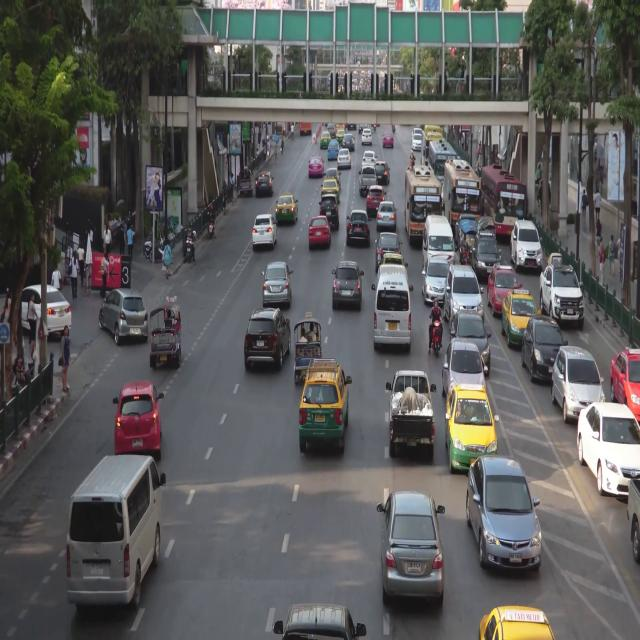bus: (481, 162, 524, 240), (405, 169, 442, 246), (444, 161, 479, 239), (430, 140, 457, 206), (422, 126, 445, 188)
car: (69, 456, 161, 603), (468, 458, 542, 575), (382, 495, 445, 604), (576, 399, 640, 502), (551, 345, 603, 424), (390, 369, 435, 457), (116, 384, 162, 457), (375, 265, 411, 350), (525, 317, 569, 384), (14, 286, 74, 335), (100, 286, 149, 344), (287, 602, 361, 640), (541, 265, 584, 330), (246, 309, 291, 367), (443, 343, 486, 401), (446, 264, 483, 328), (451, 313, 490, 371), (149, 304, 182, 365), (424, 215, 455, 272), (510, 217, 542, 272), (294, 321, 323, 381), (473, 236, 503, 280), (334, 261, 362, 308), (264, 263, 291, 307), (627, 474, 640, 563), (423, 256, 448, 302), (376, 232, 401, 269), (253, 214, 277, 250), (458, 218, 478, 260), (347, 210, 369, 246), (455, 215, 478, 247), (309, 216, 330, 247), (479, 216, 496, 251), (360, 164, 377, 196), (377, 201, 396, 229), (367, 185, 385, 212), (255, 173, 274, 196), (375, 159, 390, 185), (239, 169, 252, 197), (323, 169, 339, 188), (362, 149, 377, 168), (338, 150, 351, 169), (343, 132, 355, 151), (412, 132, 422, 151), (362, 128, 372, 146), (327, 123, 336, 137), (413, 129, 424, 140)
pedestrian: (61, 326, 70, 391), (28, 294, 37, 344), (70, 250, 78, 299), (163, 243, 172, 279), (598, 242, 605, 288), (609, 233, 616, 277), (78, 242, 85, 285), (103, 224, 112, 257), (101, 252, 108, 294), (51, 266, 62, 291), (582, 189, 588, 230), (596, 219, 602, 257), (595, 189, 601, 224), (127, 223, 133, 257), (223, 179, 228, 217), (120, 217, 125, 254), (229, 170, 234, 204), (273, 141, 277, 166), (537, 164, 541, 187), (267, 136, 271, 155), (280, 135, 284, 154), (291, 125, 295, 140), (264, 141, 267, 159), (257, 147, 259, 155)
taxi: (445, 385, 499, 472), (302, 362, 350, 456), (477, 603, 557, 640), (610, 344, 640, 424), (504, 287, 537, 352), (490, 267, 517, 317), (275, 192, 297, 225), (381, 252, 405, 277), (323, 179, 340, 203), (309, 155, 324, 177), (328, 141, 339, 160), (382, 131, 394, 148), (320, 132, 330, 148), (336, 129, 346, 145)
